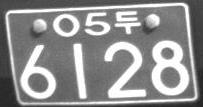0: (52, 12, 80, 38)
1: (62, 43, 99, 99)
2: (104, 40, 147, 99)
5: (84, 11, 111, 36)
6: (19, 44, 57, 99)
8: (150, 38, 189, 96)
두: (114, 10, 141, 34)
